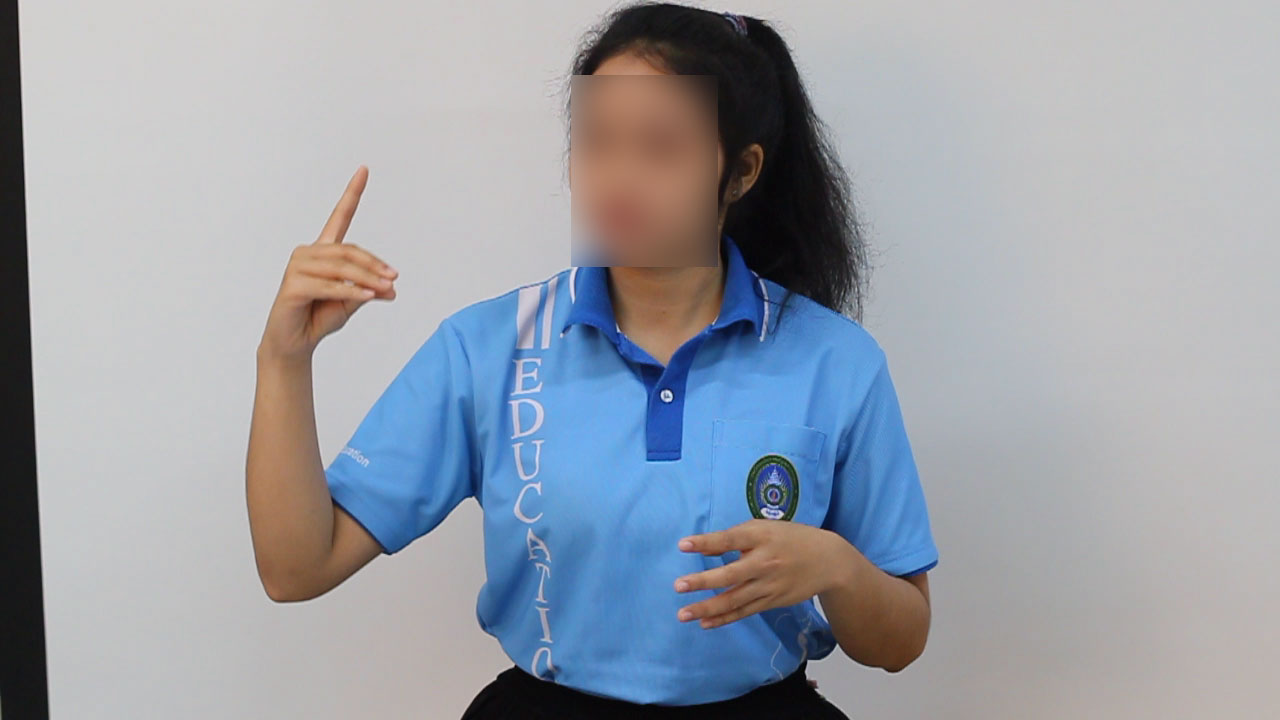dor: (249, 157, 407, 361)
